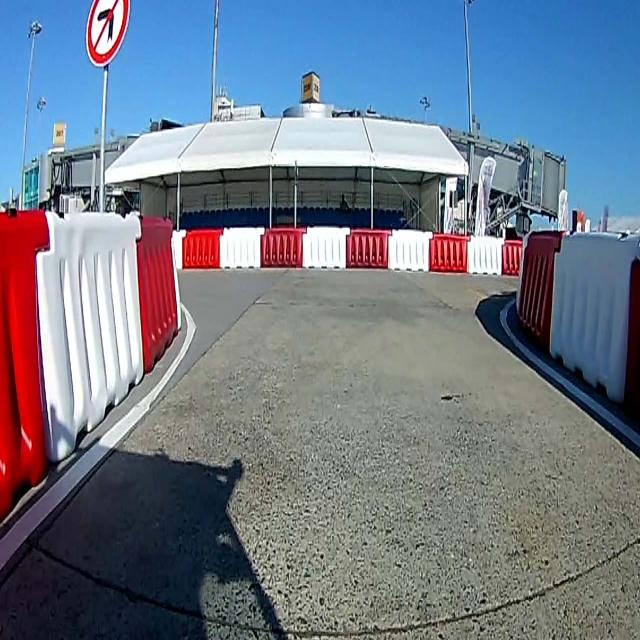soladonulmez: (84, 0, 131, 64)
